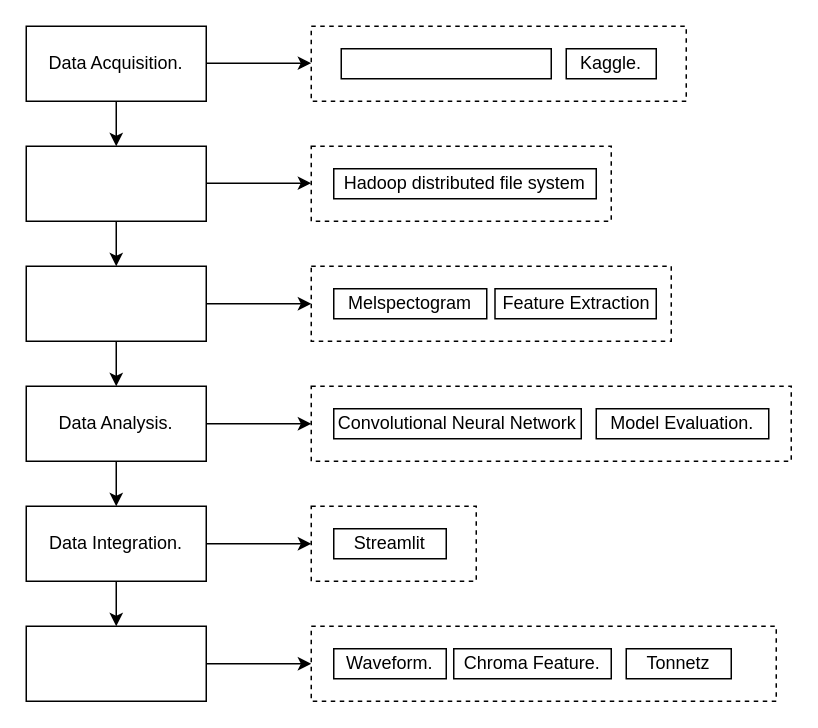
The diagram is 818 pixels wide and 728 high, and some of its shapes have lost their labels. Here are the shapes that lost their labels. From the top down, the box of each, then its label:
(340, 47, 551, 79): GTZAN Musice Genre.
(25, 145, 206, 221): Data Storage.
(25, 265, 206, 341): Data Preprocessing.
(25, 625, 206, 701): Data Visualization.
